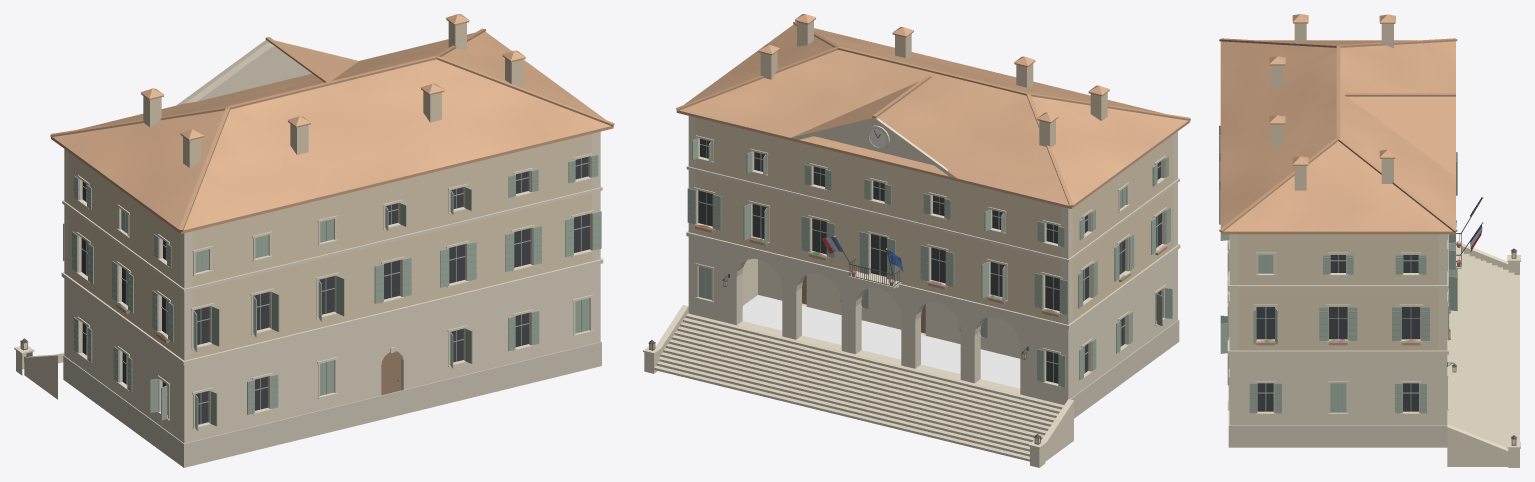
File: SM_BM_BH_PalazzoComunale.glb
3 views of the same model, side by side, from view 1: azimuth 30°, elevation 25°; view 2: azimuth 150°, elevation 25°; view 3: azimuth 270°, elevation 25° (orthographic). The views are drawn at different scales.
Visible parts, largest first — view 1: SM_BM_BH_PalazzoComunale; view 2: SM_BM_BH_PalazzoComunale; view 3: SM_BM_BH_PalazzoComunale.
Boxes of the visible parts, bbox=[...] form: SM_BM_BH_PalazzoComunale: bbox=[14, 14, 614, 467]; SM_BM_BH_PalazzoComunale: bbox=[643, 14, 1190, 467]; SM_BM_BH_PalazzoComunale: bbox=[1219, 14, 1520, 467].
Size of the model in its own units: 31.43 by 22.07 by 20.79.
